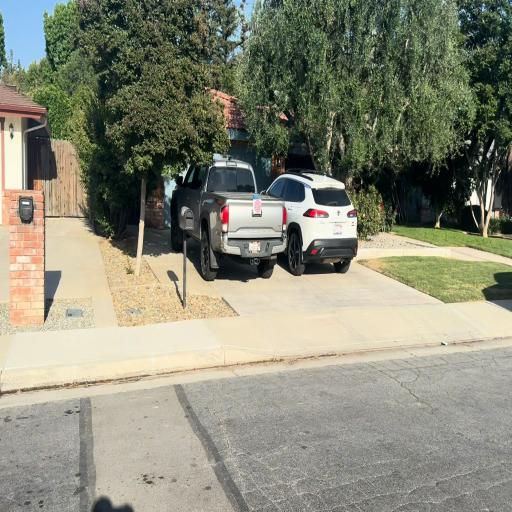bullseye: (254, 199, 262, 214)
